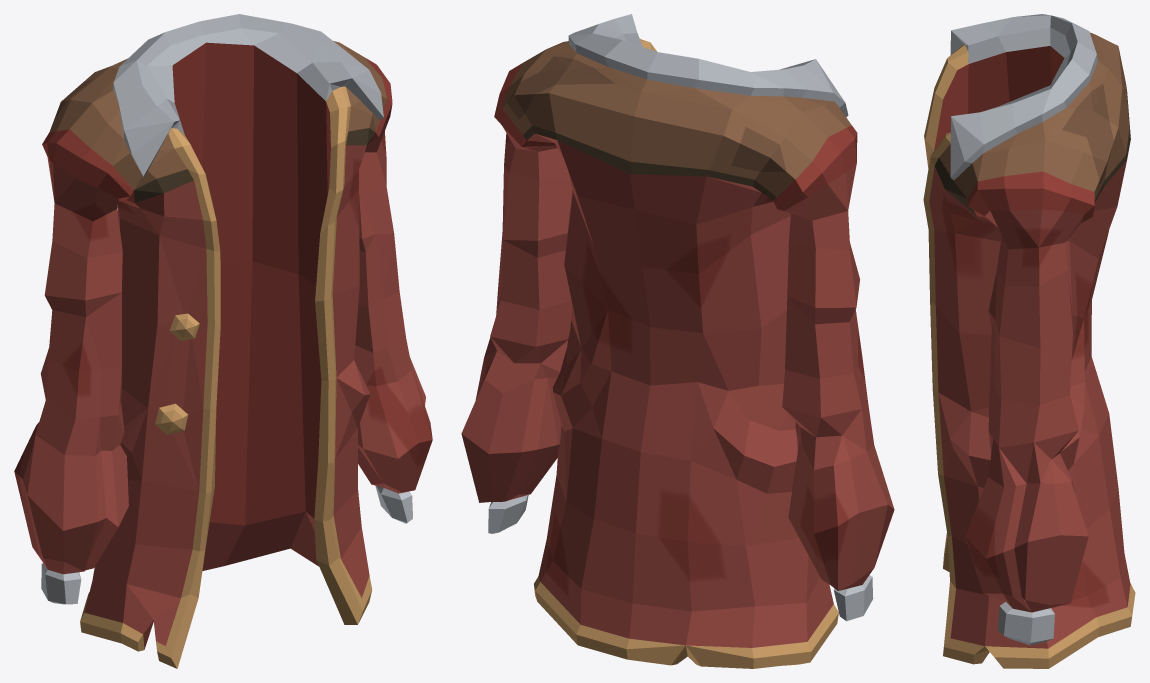
Rendered from SM_Prop_Mannequin_01_Insert_04.fbx.
3 renders of one model, left to right at view 1: azimuth 30°, elevation 25°; view 2: azimuth 150°, elevation 25°; view 3: azimuth 270°, elevation 25°, orthographic. The views are drawn at different scales.
Parts seen in each view (by area): view 1: SM_Prop_Mannequin_01_Insert_04; view 2: SM_Prop_Mannequin_01_Insert_04; view 3: SM_Prop_Mannequin_01_Insert_04.
Part boxes in pixels (x1,y1,x2,y2): SM_Prop_Mannequin_01_Insert_04: [14, 14, 432, 668]; SM_Prop_Mannequin_01_Insert_04: [461, 14, 894, 668]; SM_Prop_Mannequin_01_Insert_04: [923, 14, 1135, 668].
Bounding box in the file's own units: 57.98 × 80.45 × 26.95.
